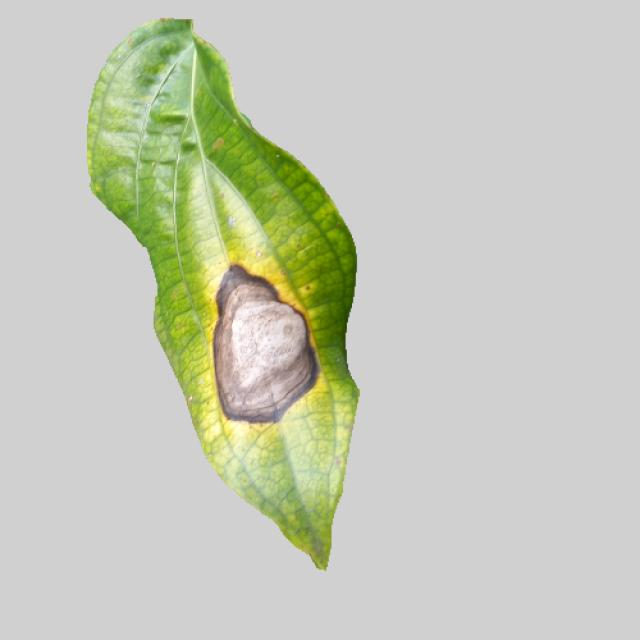leaf-blight: (52, 26, 374, 574)
